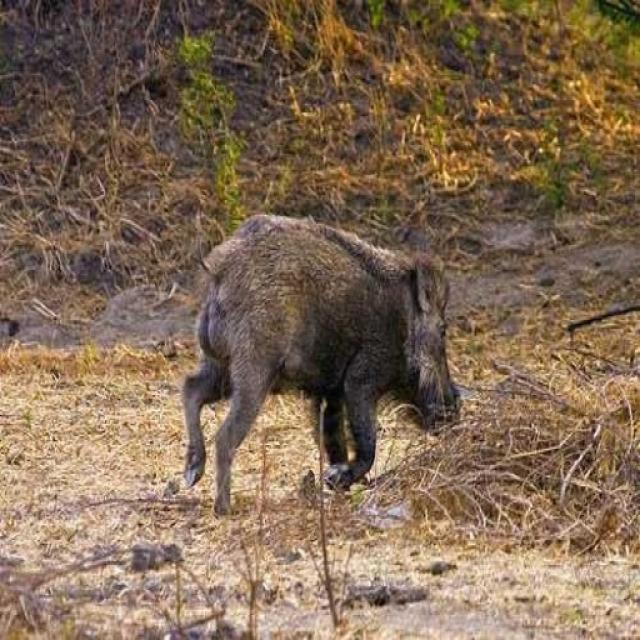pig: (115, 139, 507, 454)
